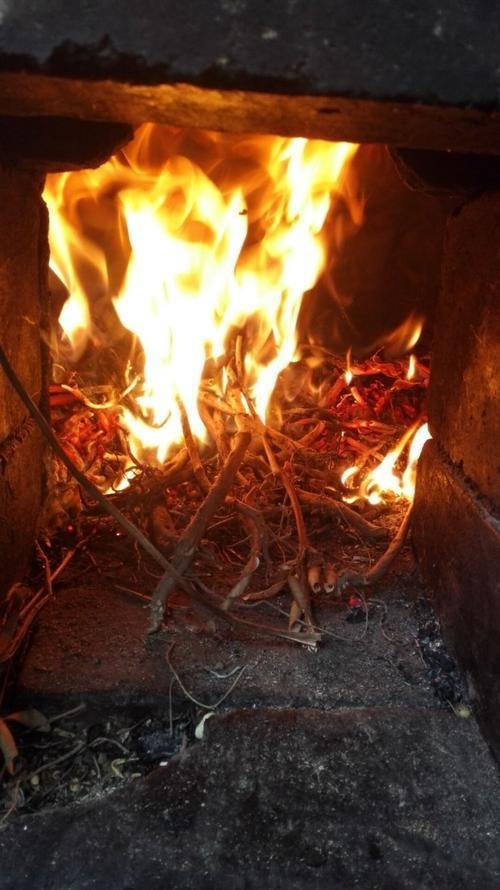fire: (27, 89, 443, 527)
